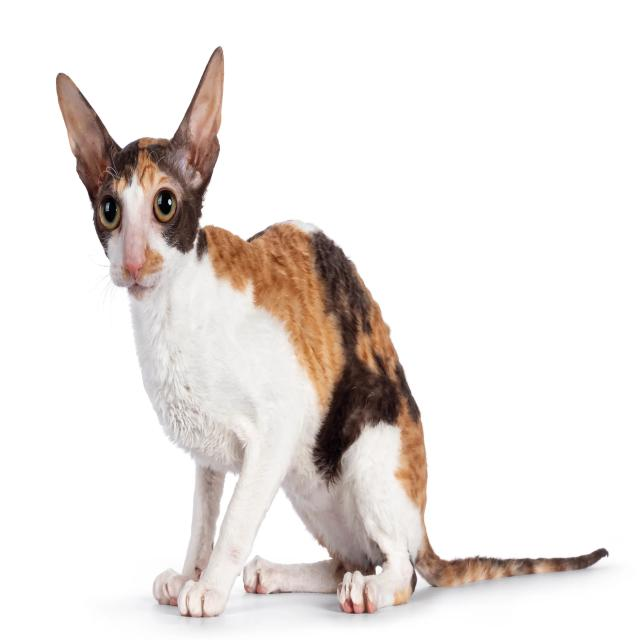Cornish Rex: (50, 40, 618, 626)
